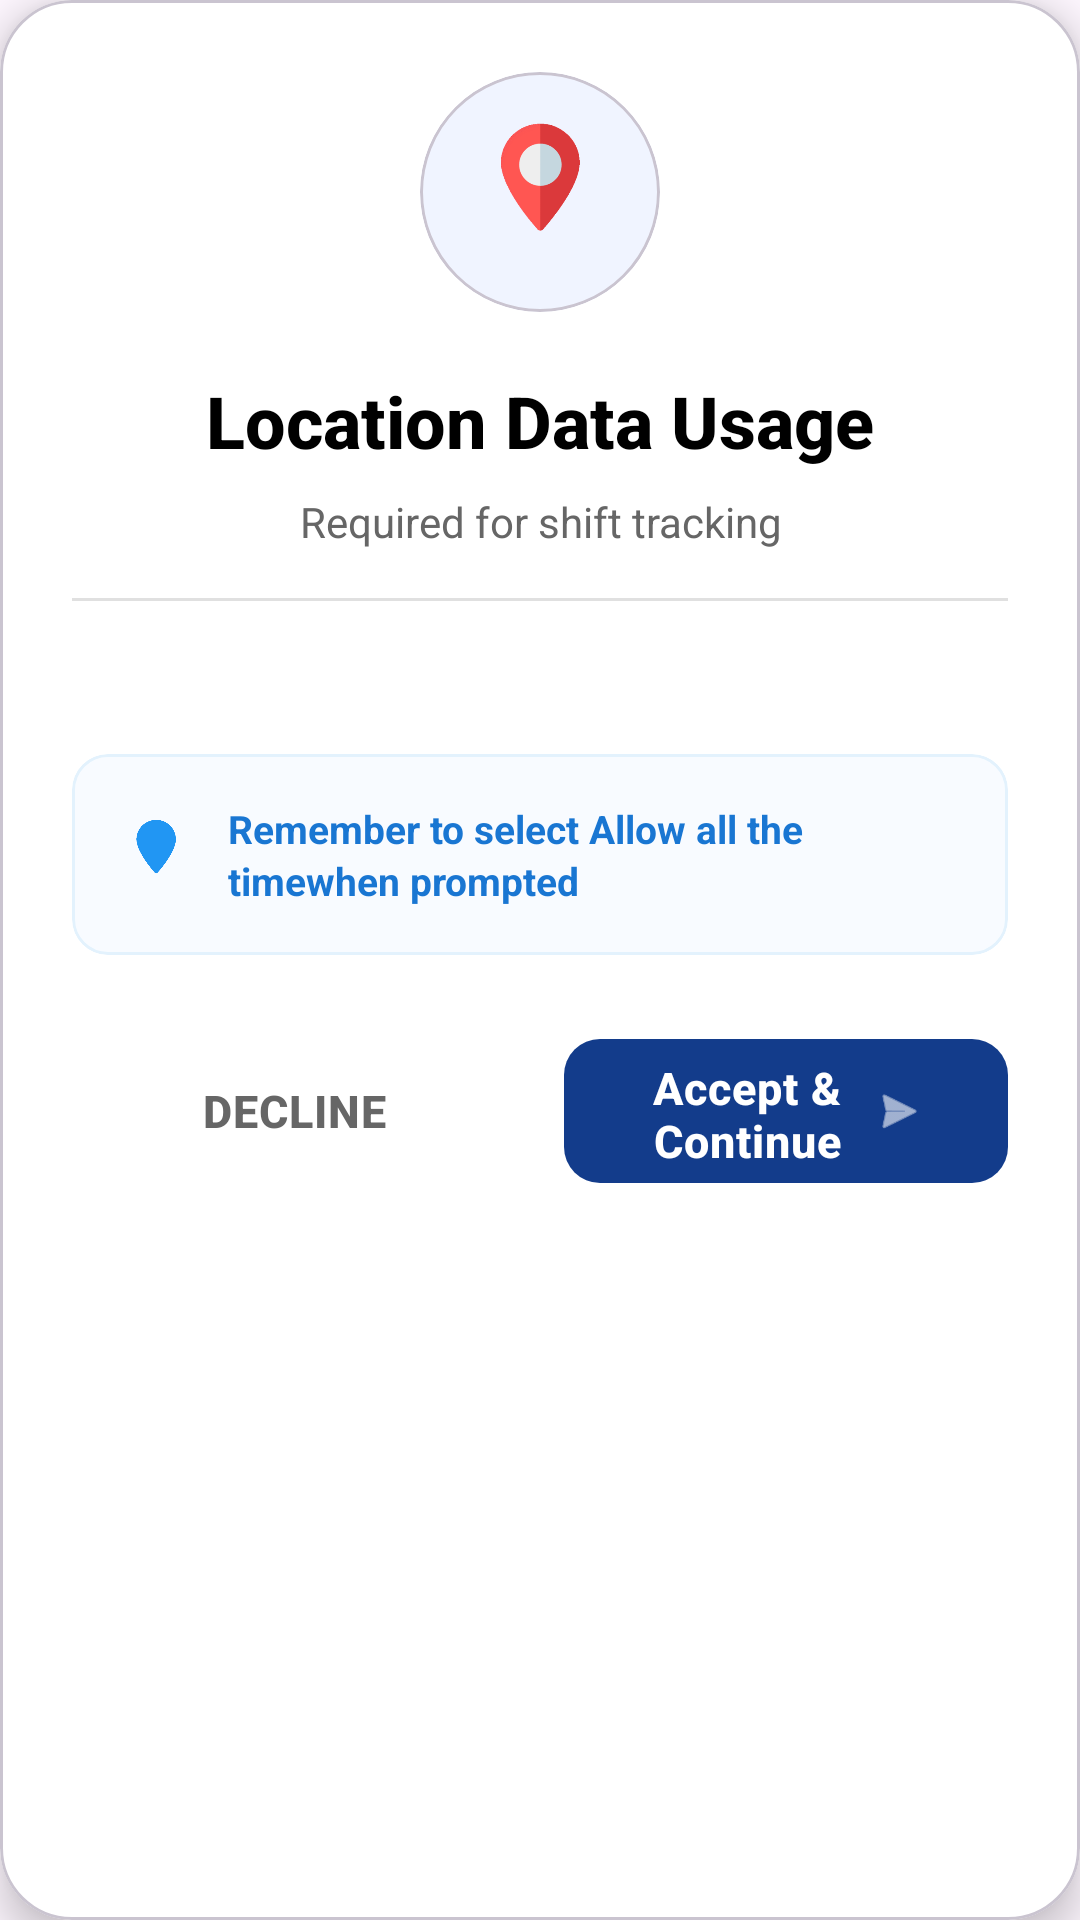

Named icons in this screenshot (1080×1920) and their centers, [x,y]:
Location Permission Icon: [540,177], [156,846]
